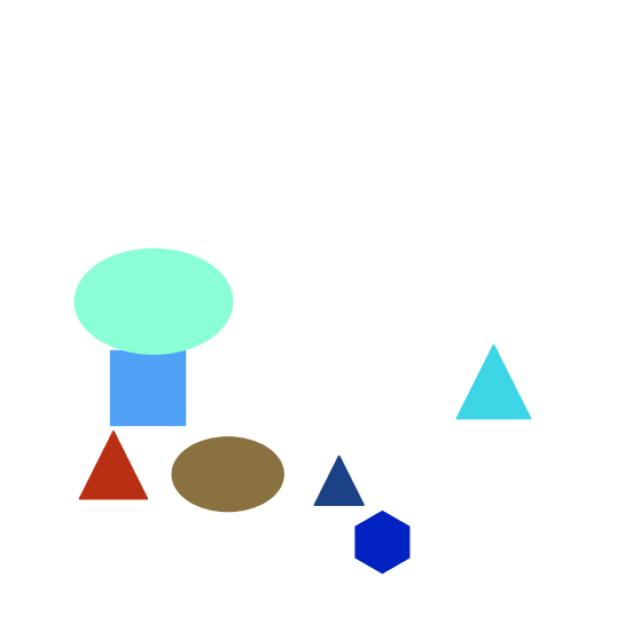Hexagon: (338, 495, 416, 588)
Oval: (56, 244, 267, 366), (155, 430, 307, 530)
Triangle: (443, 325, 562, 439), (60, 424, 164, 525), (304, 442, 373, 518)
square: (93, 338, 207, 433)
